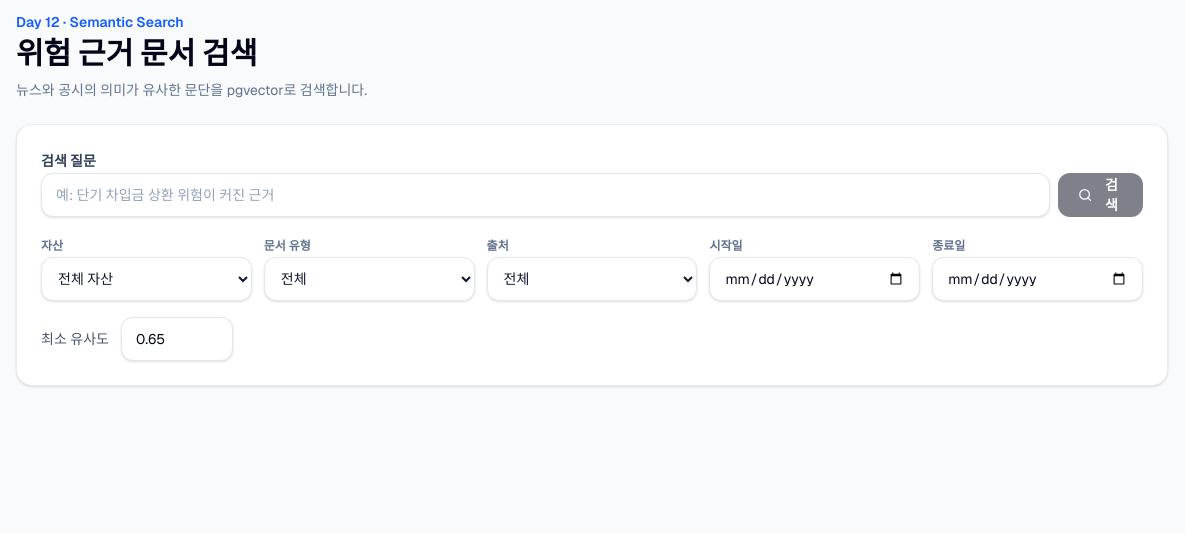
it: RagSearchWorkbench › submits a semantic search and renders the empty state
The image size is (1185, 533).
Type "단기 상환 위험" into the field named "RAG 검색 질문" at coordinates (545, 195), box [41, 173, 1050, 217]
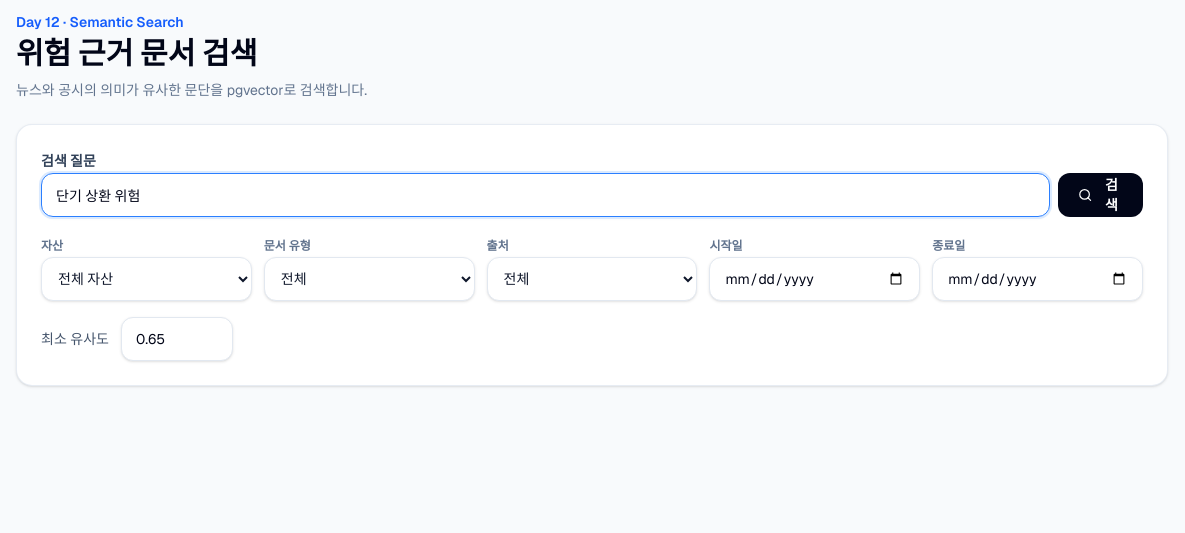
Click the button "검색" at coordinates (1100, 195), box [1058, 173, 1143, 217]
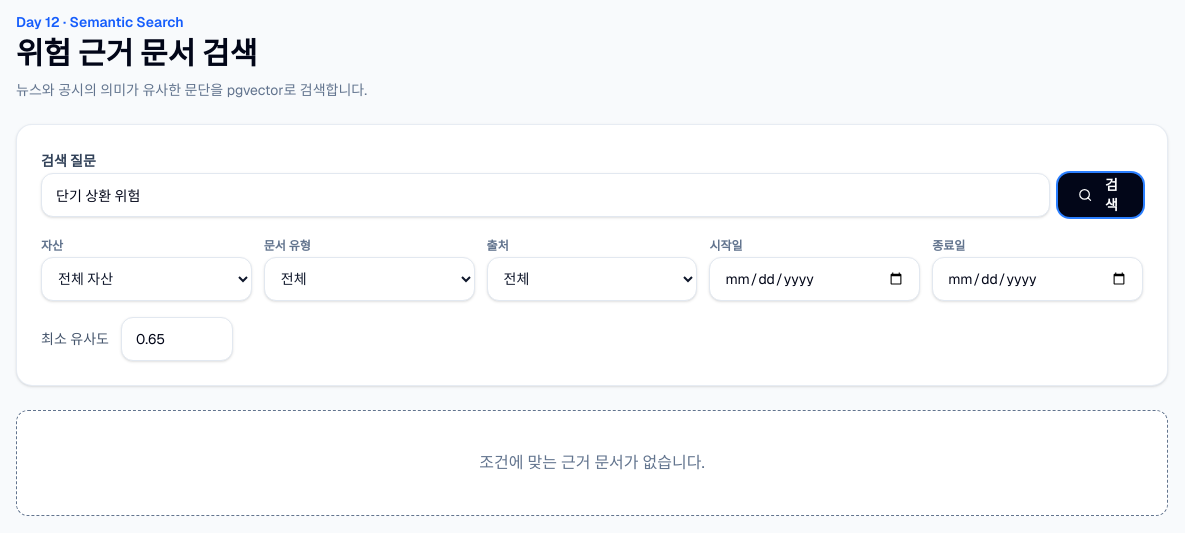
Expected: the text "조건에 맞는 근거 문서가 없습니다." is shown, [16, 410, 1168, 516]
